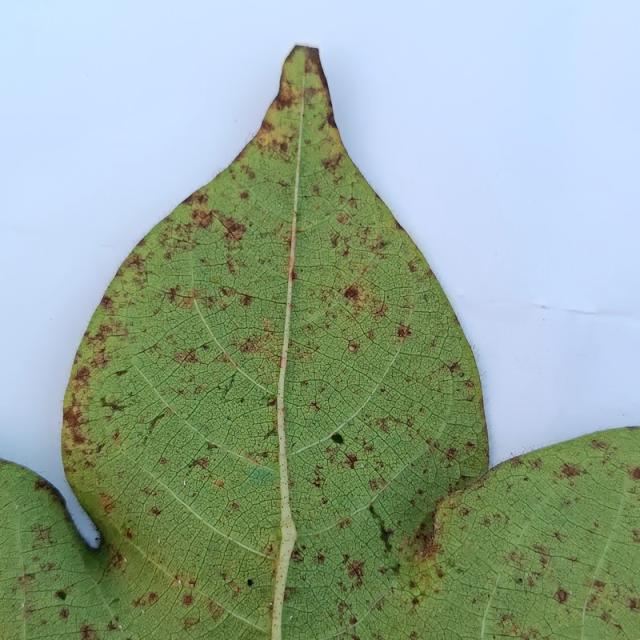Bacterial_Blight: (105, 512, 269, 637), (131, 446, 270, 562), (178, 264, 359, 318), (386, 508, 454, 617), (333, 261, 424, 329), (64, 543, 129, 638), (420, 483, 481, 564), (296, 402, 375, 458), (480, 580, 569, 629), (505, 536, 604, 575), (195, 434, 270, 473), (298, 506, 375, 540), (291, 70, 306, 213), (346, 589, 389, 633), (121, 333, 178, 362), (523, 302, 632, 317), (286, 261, 340, 291), (479, 570, 501, 640), (408, 505, 439, 551), (291, 216, 352, 239), (19, 517, 29, 640), (367, 504, 392, 552), (88, 321, 121, 353), (607, 582, 637, 616), (215, 213, 246, 245), (290, 435, 337, 456), (161, 289, 210, 307), (18, 601, 73, 615), (264, 144, 293, 165), (29, 523, 54, 546), (190, 207, 215, 229), (345, 558, 366, 584), (275, 86, 297, 110), (238, 285, 258, 311), (99, 396, 128, 413), (146, 409, 167, 432), (321, 152, 344, 173), (178, 188, 203, 207), (62, 405, 82, 428), (218, 376, 236, 401), (338, 246, 380, 256), (559, 462, 584, 478), (450, 457, 466, 481), (125, 252, 144, 272), (238, 336, 258, 355), (72, 364, 91, 384), (532, 543, 551, 562), (18, 572, 38, 590), (505, 550, 525, 568), (391, 216, 409, 236), (98, 493, 115, 514), (287, 246, 296, 283), (224, 254, 238, 276), (222, 352, 238, 371), (93, 349, 109, 368), (369, 476, 387, 492), (107, 324, 127, 338), (166, 286, 182, 303), (599, 610, 616, 626), (79, 623, 97, 638), (553, 588, 569, 604), (191, 456, 209, 470), (326, 108, 338, 128), (626, 466, 640, 483), (241, 165, 256, 180), (34, 478, 50, 492), (444, 447, 459, 461), (264, 422, 277, 438), (589, 440, 608, 450), (311, 474, 324, 488), (447, 361, 460, 374), (72, 431, 85, 444), (220, 286, 234, 298), (41, 561, 56, 572), (102, 296, 114, 309), (347, 341, 360, 353), (336, 212, 349, 224), (54, 590, 67, 601), (148, 506, 161, 517), (309, 401, 321, 412), (347, 197, 358, 209), (114, 369, 129, 377), (278, 141, 288, 153), (105, 395, 117, 405), (459, 472, 476, 479), (96, 442, 106, 453), (239, 190, 250, 200), (206, 441, 218, 450), (267, 396, 276, 407), (464, 380, 475, 389), (391, 564, 400, 575), (379, 240, 389, 248), (465, 394, 475, 402), (279, 356, 284, 368), (523, 476, 529, 481)
Cotton: (0, 47, 639, 639)
